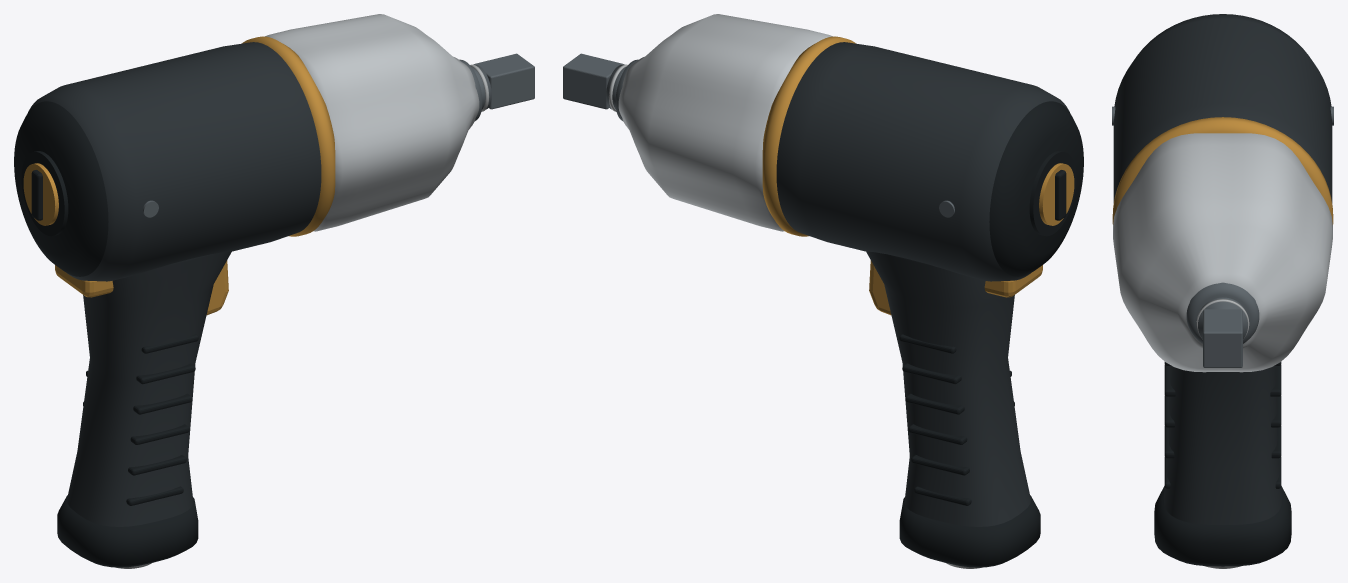
The picture shows the model from 3 angles, left to right: view 1: azimuth 30°, elevation 25°; view 2: azimuth 150°, elevation 25°; view 3: azimuth 270°, elevation 25°; orthographic projection. The views are drawn at different scales.
Parts seen in each view (by area): view 1: Rounded rear motor enclosure, Curved pistol grip, Fluted metal impact housing, Rear end molded cap, Expanded rubber heel, Ochre housing gasket, Half inch square drive, Rear regulator base, Rear regulator dial, Reverse thumb tab, Front trigger; view 2: Rounded rear motor enclosure, Curved pistol grip, Fluted metal impact housing, Rear end molded cap, Expanded rubber heel, Ochre housing gasket, Half inch square drive, Rear regulator base, Rear regulator dial, Reverse thumb tab, Front trigger; view 3: Fluted metal impact housing, Rounded rear motor enclosure, Curved pistol grip, Expanded rubber heel, Ochre housing gasket, Half inch square drive, Front retaining nose, Round drive root.
Boxes of the visible parts, x1,y1,x2,y2 form: Rounded rear motor enclosure: (28,42,321,281); Curved pistol grip: (67,251,231,526); Fluted metal impact housing: (265,14,479,231); Rear end molded cap: (14,101,108,276); Expanded rubber heel: (57,495,198,567); Ochre housing gasket: (242,36,335,236); Half inch square drive: (473,53,534,109); Rear regulator base: (21,151,68,236); Rear regulator dial: (23,163,58,225); Reverse thumb tab: (55,265,113,297); Front trigger: (206,260,228,315); Rounded rear motor enclosure: (776,42,1069,281); Curved pistol grip: (866,251,1030,526); Fluted metal impact housing: (618,14,832,231); Rear end molded cap: (989,101,1083,276); Expanded rubber heel: (899,495,1040,567); Ochre housing gasket: (762,36,855,236); Half inch square drive: (563,53,624,109); Rear regulator base: (1029,151,1076,236); Rear regulator dial: (1039,163,1074,225); Reverse thumb tab: (984,265,1042,297); Front trigger: (869,260,891,315); Fluted metal impact housing: (1113,133,1332,372); Rounded rear motor enclosure: (1113,14,1332,202); Curved pistol grip: (1163,366,1282,524); Expanded rubber heel: (1154,486,1291,566); Ochre housing gasket: (1112,117,1333,224); Half inch square drive: (1203,309,1242,367); Front retaining nose: (1186,282,1259,343); Round drive root: (1198,297,1247,338).
Bounding box in the file's own units: 19.75 × 18.33 × 7.1.
